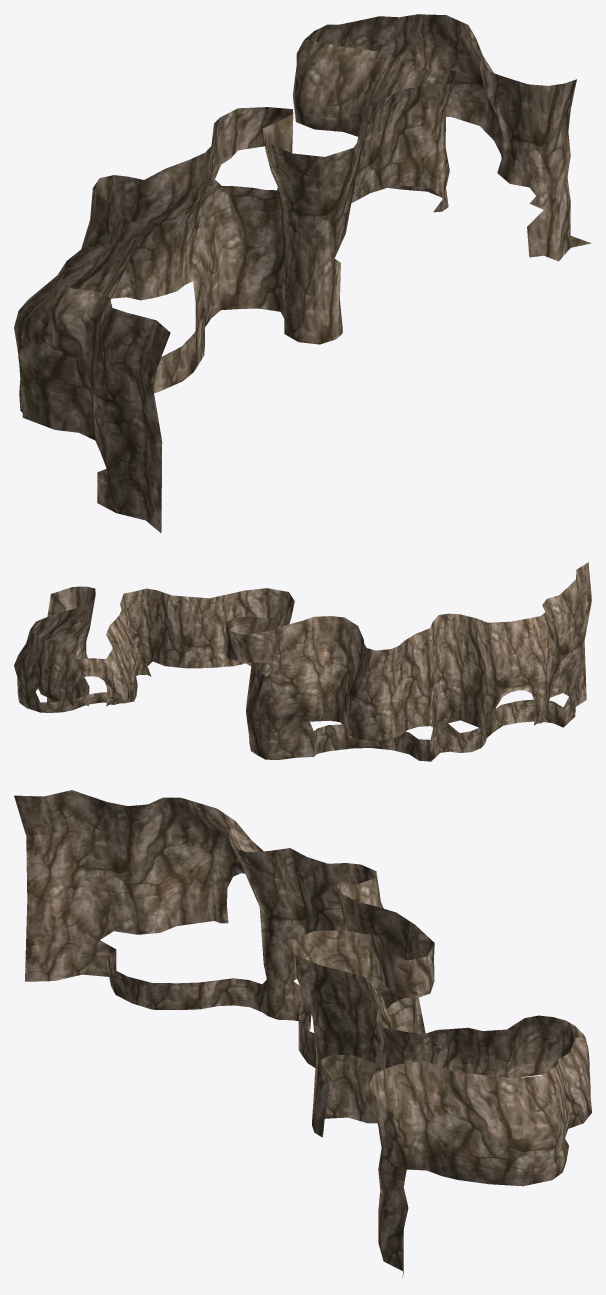
The model's file is EKH_CAVERNS_PS_CA_WALL_BACK_CAVE8384.fbx.
3 views of the same model, one above another, from view 1: azimuth 30°, elevation 25°; view 2: azimuth 150°, elevation 25°; view 3: azimuth 270°, elevation 25° (orthographic). The views are drawn at different scales.
Parts seen in each view (by area): view 1: EKH_CAVERNS_PS_CA_WALL_BACK_CAVE8384; view 2: EKH_CAVERNS_PS_CA_WALL_BACK_CAVE8384; view 3: EKH_CAVERNS_PS_CA_WALL_BACK_CAVE8384.
Part boxes in pixels (<box>): EKH_CAVERNS_PS_CA_WALL_BACK_CAVE8384: <box>14,14,591,532</box>; EKH_CAVERNS_PS_CA_WALL_BACK_CAVE8384: <box>14,562,591,761</box>; EKH_CAVERNS_PS_CA_WALL_BACK_CAVE8384: <box>14,790,591,1277</box>.
Bounding box in the file's own units: 384740 × 119392 × 309744.
Materials: 1 (1 with a texture image).
